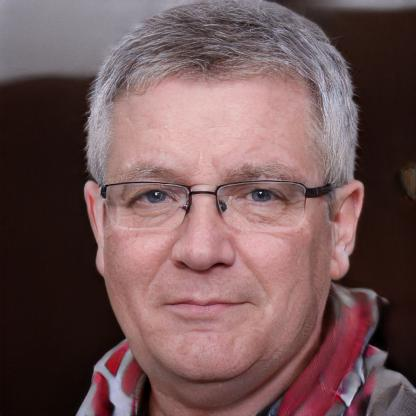glasses: (96, 173, 322, 232)
